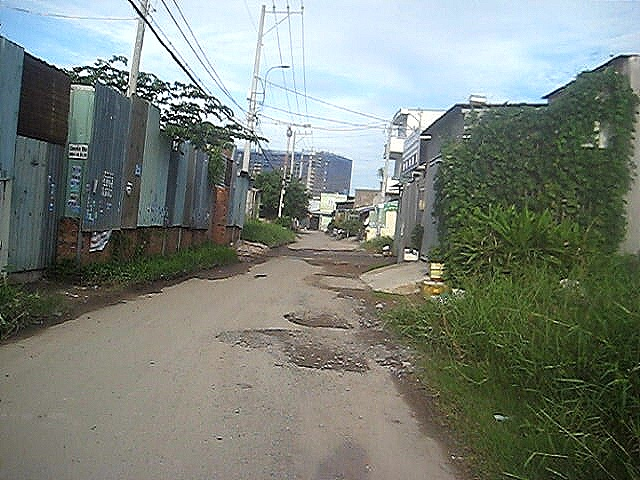hole: (215, 328, 368, 371), (279, 309, 356, 327), (278, 246, 358, 252), (304, 260, 352, 266)
